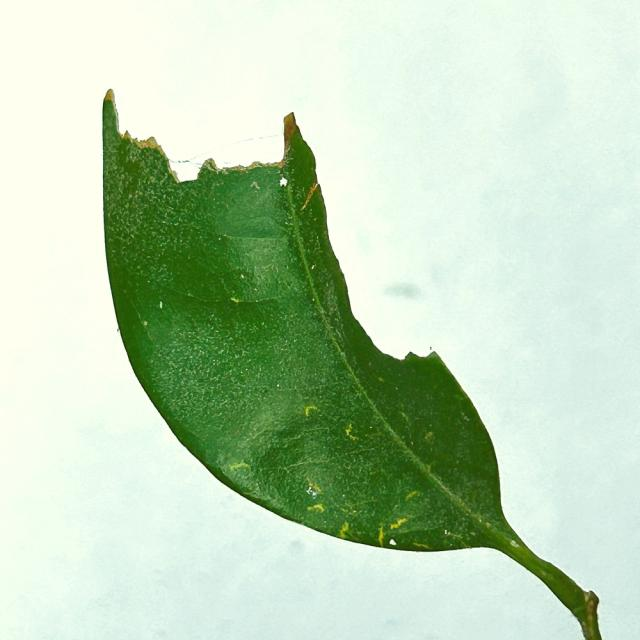Deficiency Leaf: (289, 178, 436, 372), (284, 140, 289, 154)
Lychee: (103, 91, 601, 639)
